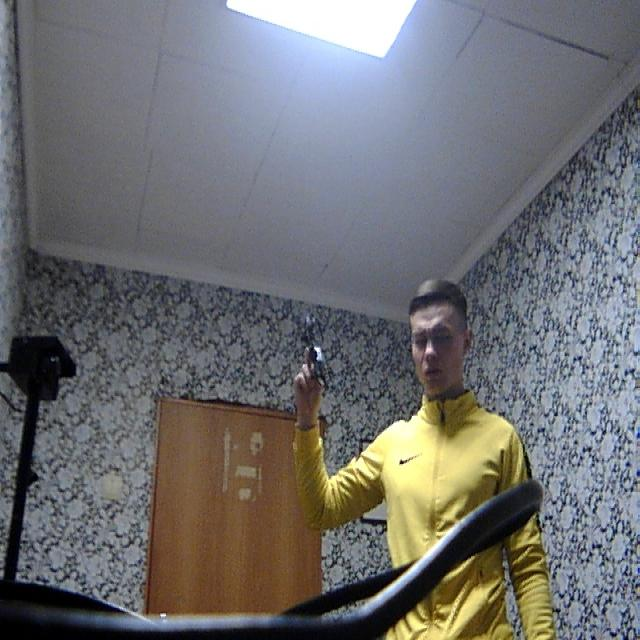drone: (281, 307, 349, 401)
